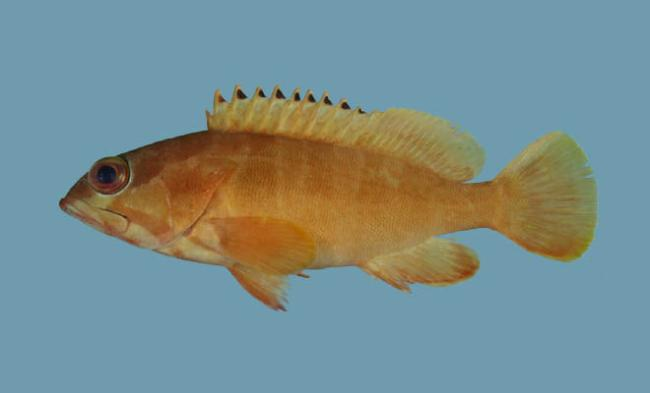fish: (58, 83, 598, 313)
